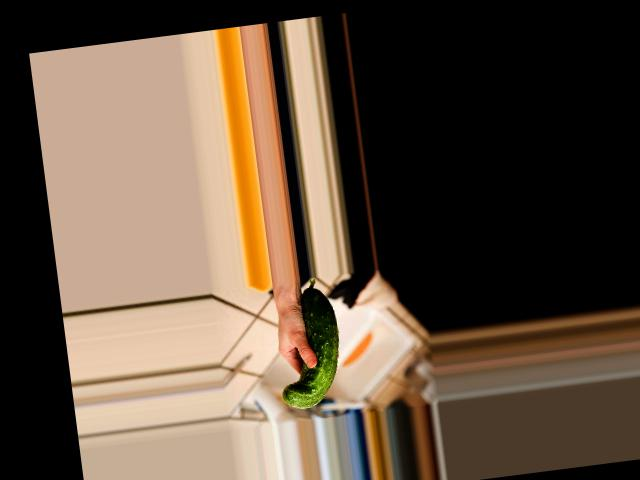cucumber: (268, 276, 348, 411)
